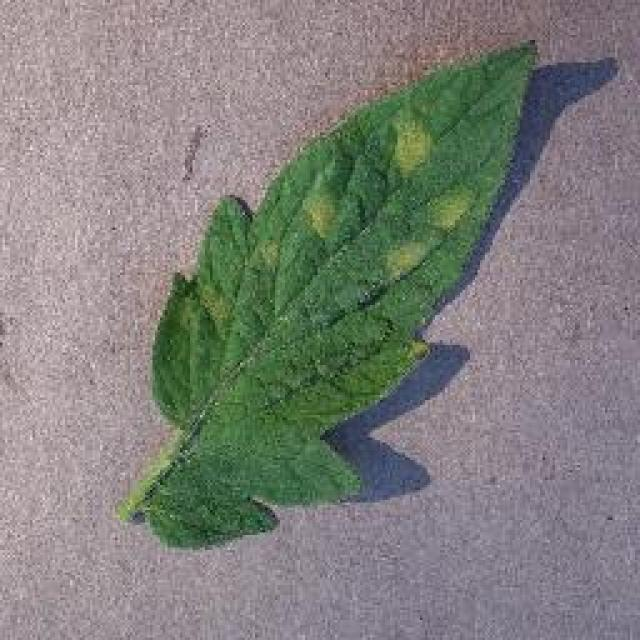Tomato___Leaf_Mold: (122, 42, 535, 545)
